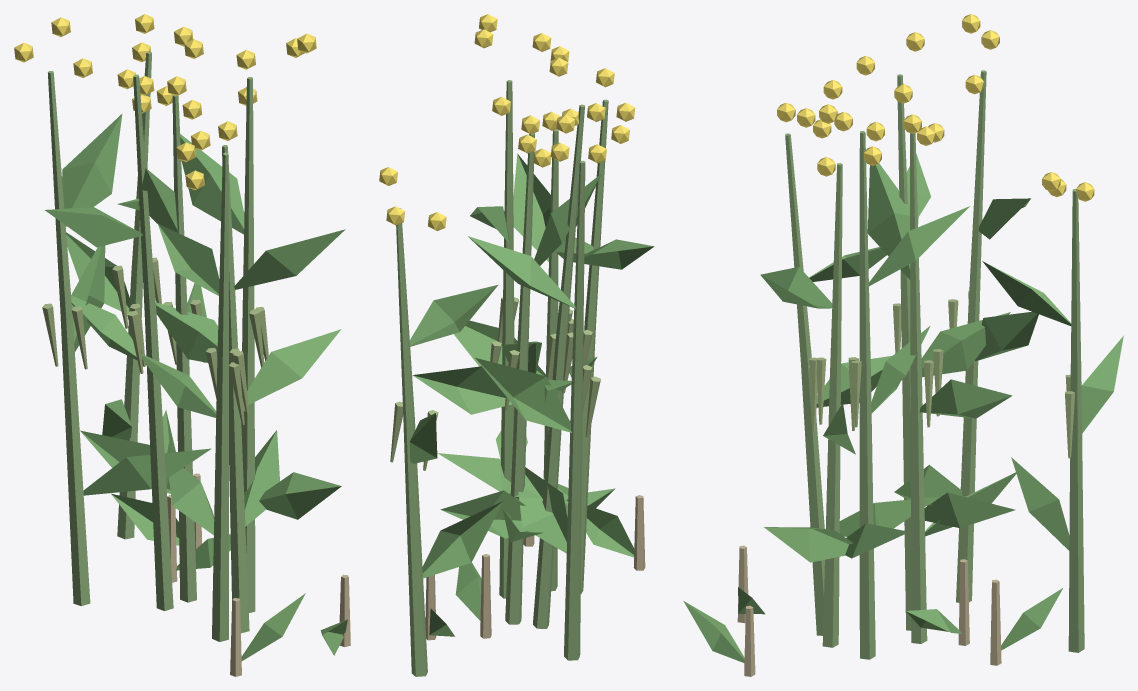
Rendered from plant-rapeseed-b_lod1.glb.
3 renders of one model, left to right at view 1: azimuth 30°, elevation 25°; view 2: azimuth 150°, elevation 25°; view 3: azimuth 270°, elevation 25°, orthographic. The views are drawn at different scales.
Parts seen in each view (by area): view 1: plant-rapeseed-b_full_leafA, plant-rapeseed-b_full_stemGreen, plant-rapeseed-b_fruit_rapeFlower, plant-rapeseed-b_fruit_rapePod, plant-rapeseed-b_low_leafA, plant-rapeseed-b_low_stemDry; view 2: plant-rapeseed-b_full_stemGreen, plant-rapeseed-b_full_leafA, plant-rapeseed-b_fruit_rapeFlower, plant-rapeseed-b_low_leafA, plant-rapeseed-b_fruit_rapePod, plant-rapeseed-b_low_stemDry; view 3: plant-rapeseed-b_full_stemGreen, plant-rapeseed-b_full_leafA, plant-rapeseed-b_fruit_rapeFlower, plant-rapeseed-b_fruit_rapePod, plant-rapeseed-b_low_leafA, plant-rapeseed-b_low_stemDry.
Boxes of the visible parts, x1=… form: plant-rapeseed-b_full_leafA: x1=45, y1=114, x2=345, y2=535; plant-rapeseed-b_full_stemGreen: x1=48, y1=51, x2=255, y2=641; plant-rapeseed-b_fruit_rapeFlower: x1=14, y1=14, x2=316, y2=190; plant-rapeseed-b_fruit_rapePod: x1=42, y1=257, x2=268, y2=424; plant-rapeseed-b_low_leafA: x1=111, y1=493, x2=347, y2=660; plant-rapeseed-b_low_stemDry: x1=167, y1=473, x2=350, y2=676; plant-rapeseed-b_full_stemGreen: x1=396, y1=80, x2=608, y2=676; plant-rapeseed-b_full_leafA: x1=409, y1=153, x2=654, y2=578; plant-rapeseed-b_fruit_rapeFlower: x1=379, y1=14, x2=635, y2=230; plant-rapeseed-b_low_leafA: x1=429, y1=488, x2=634, y2=636; plant-rapeseed-b_fruit_rapePod: x1=390, y1=297, x2=600, y2=470; plant-rapeseed-b_low_stemDry: x1=425, y1=495, x2=645, y2=640; plant-rapeseed-b_full_stemGreen: x1=785, y1=70, x2=1084, y2=659; plant-rapeseed-b_full_leafA: x1=760, y1=153, x2=1123, y2=562; plant-rapeseed-b_fruit_rapeFlower: x1=777, y1=14, x2=1094, y2=201; plant-rapeseed-b_fruit_rapePod: x1=809, y1=290, x2=1074, y2=458; plant-rapeseed-b_low_leafA: x1=683, y1=587, x2=1062, y2=662; plant-rapeseed-b_low_stemDry: x1=737, y1=545, x2=1001, y2=676.
Size of the model in its own units: 0.5775 by 1.25 by 0.8511.
